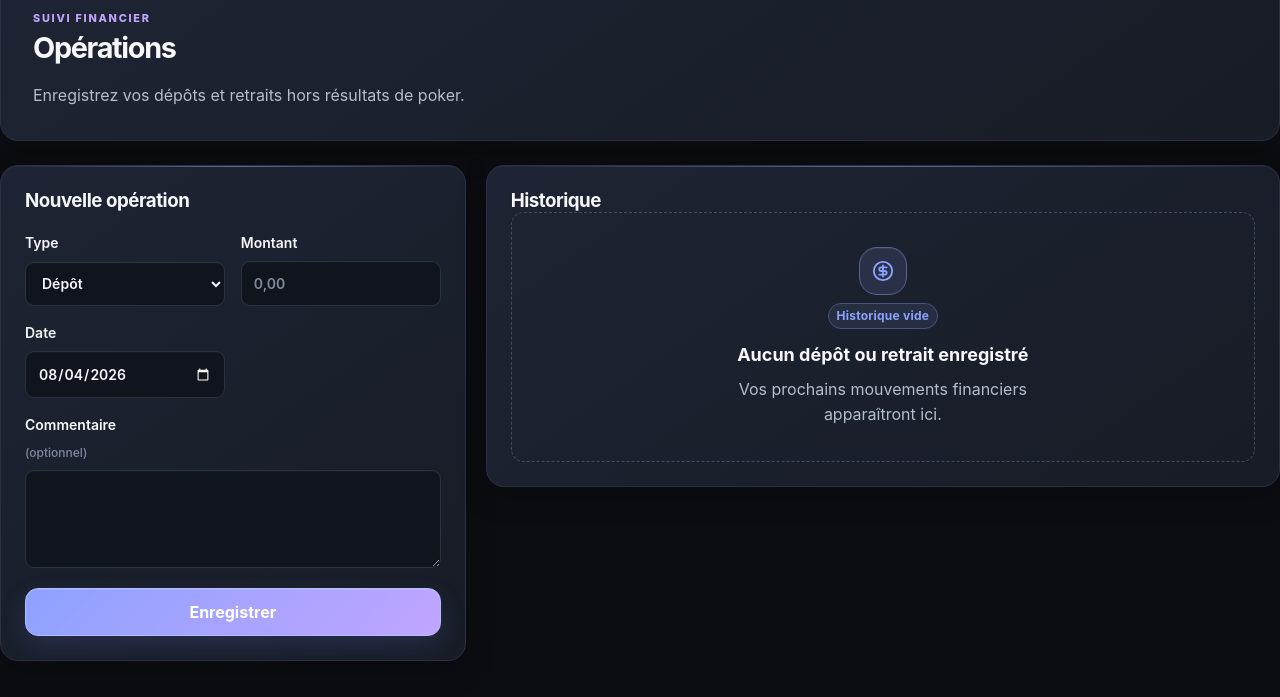
it: OperationsPage › rejects the invalid amount -10
Type "-10" into the field labelled "Montant".
click(341, 284); type("-10")  # box [241,261,441,306]
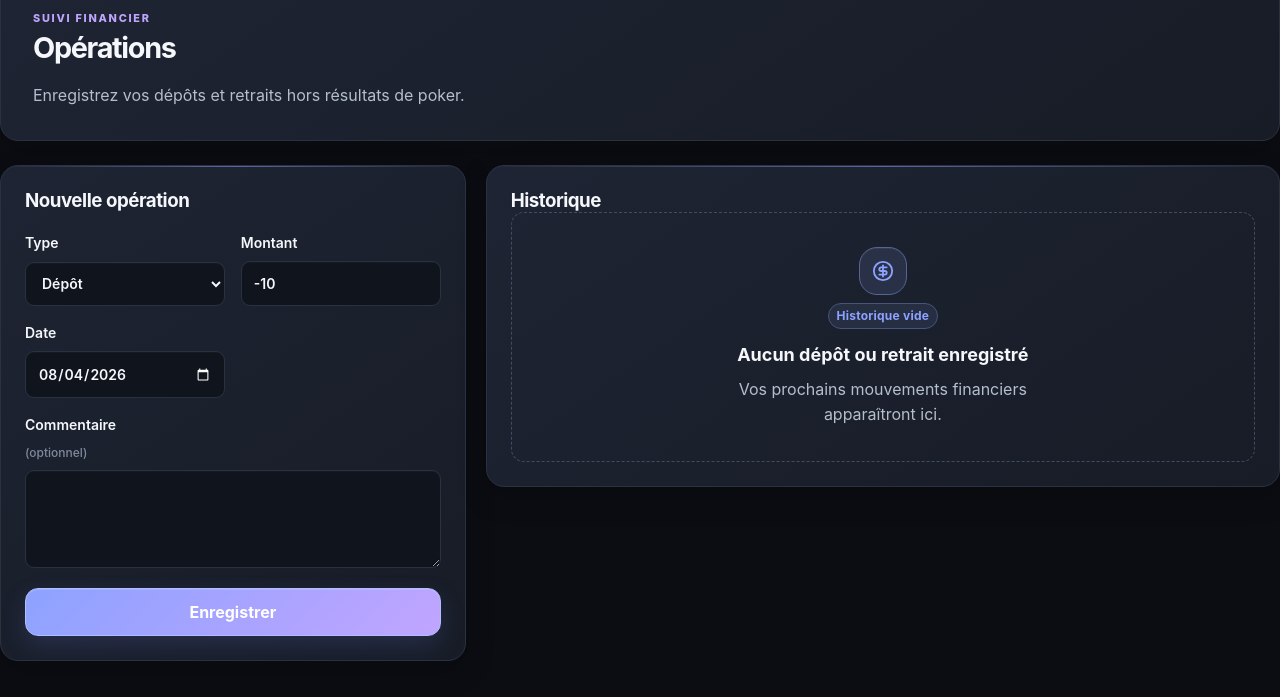
Click the button "Enregistrer".
click(233, 612)  # box [25,588,441,636]
(page scrolled)
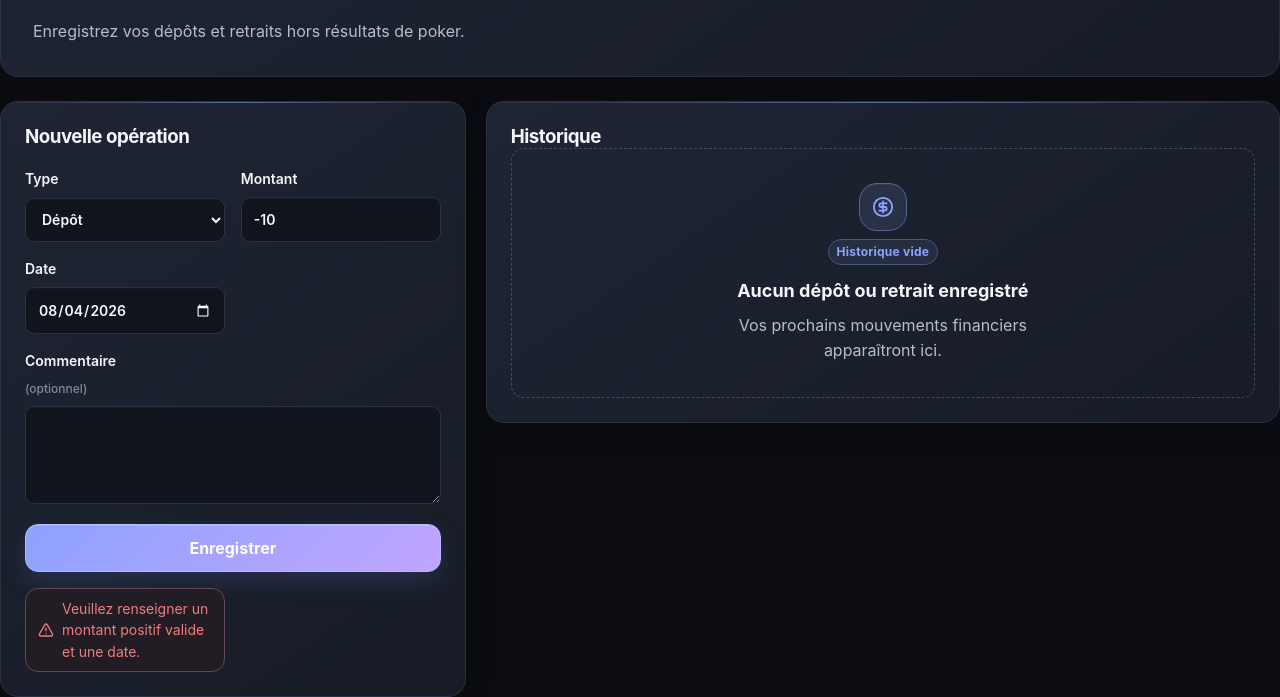
Expected: the message reads "Veuillez renseigner un montant positif valide et une date.", [62,600,208,660]
